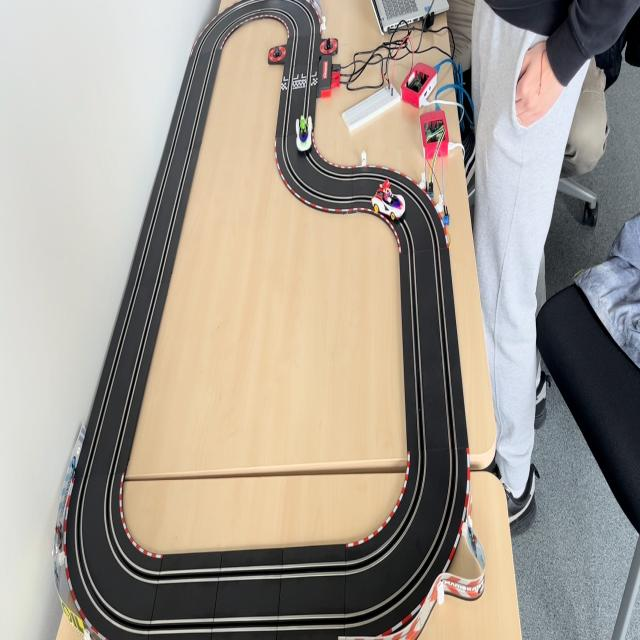mario: (372, 177, 408, 221)
yoshi: (295, 112, 312, 154)
